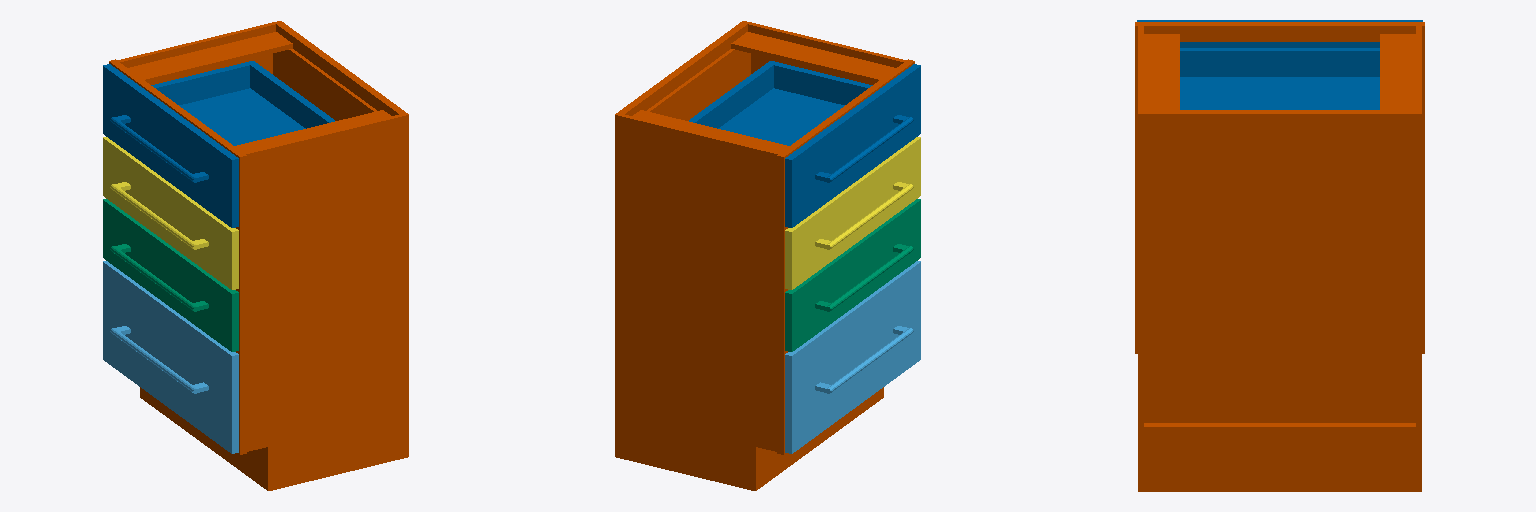
robot.urdf — partnet_bbdaeb32d4229d70c59350d819542ec7:
<?xml version="1.0" ?>
<robot name="partnet_bbdaeb32d4229d70c59350d819542ec7">
	<link name="base"/>
	<link name="link_0">
		<visual name="drawer_front-31">
			<origin xyz="0 0 0"/>
			<geometry>
				<mesh filename="textured_objs/original-43.obj"/>
			</geometry>
		</visual>
		<visual name="drawer_front-31">
			<origin xyz="0 0 0"/>
			<geometry>
				<mesh filename="textured_objs/original-51.obj"/>
			</geometry>
		</visual>
		<visual name="drawer_side-32">
			<origin xyz="0 0 0"/>
			<geometry>
				<mesh filename="textured_objs/original-42.obj"/>
			</geometry>
		</visual>
		<visual name="drawer_side-33">
			<origin xyz="0 0 0"/>
			<geometry>
				<mesh filename="textured_objs/original-49.obj"/>
			</geometry>
		</visual>
		<visual name="drawer_side-33">
			<origin xyz="0 0 0"/>
			<geometry>
				<mesh filename="textured_objs/original-47.obj"/>
			</geometry>
		</visual>
		<visual name="drawer_back-34">
			<origin xyz="0 0 0"/>
			<geometry>
				<mesh filename="textured_objs/original-48.obj"/>
			</geometry>
		</visual>
		<visual name="drawer_bottom-35">
			<origin xyz="0 0 0"/>
			<geometry>
				<mesh filename="textured_objs/original-46.obj"/>
			</geometry>
		</visual>
		<visual name="drawer_bottom-35">
			<origin xyz="0 0 0"/>
			<geometry>
				<mesh filename="textured_objs/original-45.obj"/>
			</geometry>
		</visual>
		<visual name="handle-30">
			<origin xyz="0 0 0"/>
			<geometry>
				<mesh filename="textured_objs/original-53.obj"/>
			</geometry>
		</visual>
		<visual name="handle-30">
			<origin xyz="0 0 0"/>
			<geometry>
				<mesh filename="textured_objs/original-55.obj"/>
			</geometry>
		</visual>
		<visual name="handle-30">
			<origin xyz="0 0 0"/>
			<geometry>
				<mesh filename="textured_objs/original-54.obj"/>
			</geometry>
		</visual>
		<collision>
			<origin xyz="0 0 0"/>
			<geometry>
				<mesh filename="textured_objs/original-43.obj"/>
			</geometry>
		</collision>
		<collision>
			<origin xyz="0 0 0"/>
			<geometry>
				<mesh filename="textured_objs/original-51.obj"/>
			</geometry>
		</collision>
		<collision>
			<origin xyz="0 0 0"/>
			<geometry>
				<mesh filename="textured_objs/original-42.obj"/>
			</geometry>
		</collision>
		<collision>
			<origin xyz="0 0 0"/>
			<geometry>
				<mesh filename="textured_objs/original-49.obj"/>
			</geometry>
		</collision>
		<collision>
			<origin xyz="0 0 0"/>
			<geometry>
				<mesh filename="textured_objs/original-47.obj"/>
			</geometry>
		</collision>
		<collision>
			<origin xyz="0 0 0"/>
			<geometry>
				<mesh filename="textured_objs/original-48.obj"/>
			</geometry>
		</collision>
		<collision>
			<origin xyz="0 0 0"/>
			<geometry>
				<mesh filename="textured_objs/original-46.obj"/>
			</geometry>
		</collision>
		<collision>
			<origin xyz="0 0 0"/>
			<geometry>
				<mesh filename="textured_objs/original-45.obj"/>
			</geometry>
		</collision>
		<collision>
			<origin xyz="0 0 0"/>
			<geometry>
				<mesh filename="textured_objs/original-53.obj"/>
			</geometry>
		</collision>
		<collision>
			<origin xyz="0 0 0"/>
			<geometry>
				<mesh filename="textured_objs/original-55.obj"/>
			</geometry>
		</collision>
		<collision>
			<origin xyz="0 0 0"/>
			<geometry>
				<mesh filename="textured_objs/original-54.obj"/>
			</geometry>
		</collision>
	</link>
	<joint name="joint_0" type="prismatic">
		<origin xyz="0 0 0"/>
		<axis xyz="0 0 1"/>
		<child link="link_0"/>
		<parent link="link_4"/>
		<limit lower="0" upper="0.5680000000000001"/>
	</joint>
	<link name="link_1">
		<visual name="drawer_front-24">
			<origin xyz="0 0 0"/>
			<geometry>
				<mesh filename="textured_objs/original-75.obj"/>
			</geometry>
		</visual>
		<visual name="drawer_front-24">
			<origin xyz="0 0 0"/>
			<geometry>
				<mesh filename="textured_objs/original-83.obj"/>
			</geometry>
		</visual>
		<visual name="drawer_side-25">
			<origin xyz="0 0 0"/>
			<geometry>
				<mesh filename="textured_objs/original-74.obj"/>
			</geometry>
		</visual>
		<visual name="drawer_side-26">
			<origin xyz="0 0 0"/>
			<geometry>
				<mesh filename="textured_objs/original-79.obj"/>
			</geometry>
		</visual>
		<visual name="drawer_side-26">
			<origin xyz="0 0 0"/>
			<geometry>
				<mesh filename="textured_objs/original-81.obj"/>
			</geometry>
		</visual>
		<visual name="drawer_back-27">
			<origin xyz="0 0 0"/>
			<geometry>
				<mesh filename="textured_objs/original-80.obj"/>
			</geometry>
		</visual>
		<visual name="drawer_bottom-28">
			<origin xyz="0 0 0"/>
			<geometry>
				<mesh filename="textured_objs/original-77.obj"/>
			</geometry>
		</visual>
		<visual name="drawer_bottom-28">
			<origin xyz="0 0 0"/>
			<geometry>
				<mesh filename="textured_objs/original-78.obj"/>
			</geometry>
		</visual>
		<visual name="handle-23">
			<origin xyz="0 0 0"/>
			<geometry>
				<mesh filename="textured_objs/original-85.obj"/>
			</geometry>
		</visual>
		<visual name="handle-23">
			<origin xyz="0 0 0"/>
			<geometry>
				<mesh filename="textured_objs/original-86.obj"/>
			</geometry>
		</visual>
		<visual name="handle-23">
			<origin xyz="0 0 0"/>
			<geometry>
				<mesh filename="textured_objs/original-87.obj"/>
			</geometry>
		</visual>
		<collision>
			<origin xyz="0 0 0"/>
			<geometry>
				<mesh filename="textured_objs/original-75.obj"/>
			</geometry>
		</collision>
		<collision>
			<origin xyz="0 0 0"/>
			<geometry>
				<mesh filename="textured_objs/original-83.obj"/>
			</geometry>
		</collision>
		<collision>
			<origin xyz="0 0 0"/>
			<geometry>
				<mesh filename="textured_objs/original-74.obj"/>
			</geometry>
		</collision>
		<collision>
			<origin xyz="0 0 0"/>
			<geometry>
				<mesh filename="textured_objs/original-79.obj"/>
			</geometry>
		</collision>
		<collision>
			<origin xyz="0 0 0"/>
			<geometry>
				<mesh filename="textured_objs/original-81.obj"/>
			</geometry>
		</collision>
		<collision>
			<origin xyz="0 0 0"/>
			<geometry>
				<mesh filename="textured_objs/original-80.obj"/>
			</geometry>
		</collision>
		<collision>
			<origin xyz="0 0 0"/>
			<geometry>
				<mesh filename="textured_objs/original-77.obj"/>
			</geometry>
		</collision>
		<collision>
			<origin xyz="0 0 0"/>
			<geometry>
				<mesh filename="textured_objs/original-78.obj"/>
			</geometry>
		</collision>
		<collision>
			<origin xyz="0 0 0"/>
			<geometry>
				<mesh filename="textured_objs/original-85.obj"/>
			</geometry>
		</collision>
		<collision>
			<origin xyz="0 0 0"/>
			<geometry>
				<mesh filename="textured_objs/original-86.obj"/>
			</geometry>
		</collision>
		<collision>
			<origin xyz="0 0 0"/>
			<geometry>
				<mesh filename="textured_objs/original-87.obj"/>
			</geometry>
		</collision>
	</link>
	<joint name="joint_1" type="prismatic">
		<origin xyz="0 0 0"/>
		<axis xyz="0 0 1"/>
		<child link="link_1"/>
		<parent link="link_4"/>
		<limit lower="0" upper="0.5680000000000001"/>
	</joint>
	<link name="link_2">
		<visual name="drawer_front-17">
			<origin xyz="0 0 0"/>
			<geometry>
				<mesh filename="textured_objs/original-59.obj"/>
			</geometry>
		</visual>
		<visual name="drawer_front-17">
			<origin xyz="0 0 0"/>
			<geometry>
				<mesh filename="textured_objs/original-67.obj"/>
			</geometry>
		</visual>
		<visual name="drawer_side-18">
			<origin xyz="0 0 0"/>
			<geometry>
				<mesh filename="textured_objs/original-58.obj"/>
			</geometry>
		</visual>
		<visual name="drawer_side-19">
			<origin xyz="0 0 0"/>
			<geometry>
				<mesh filename="textured_objs/original-63.obj"/>
			</geometry>
		</visual>
		<visual name="drawer_side-19">
			<origin xyz="0 0 0"/>
			<geometry>
				<mesh filename="textured_objs/original-65.obj"/>
			</geometry>
		</visual>
		<visual name="drawer_back-20">
			<origin xyz="0 0 0"/>
			<geometry>
				<mesh filename="textured_objs/original-64.obj"/>
			</geometry>
		</visual>
		<visual name="drawer_bottom-21">
			<origin xyz="0 0 0"/>
			<geometry>
				<mesh filename="textured_objs/original-62.obj"/>
			</geometry>
		</visual>
		<visual name="drawer_bottom-21">
			<origin xyz="0 0 0"/>
			<geometry>
				<mesh filename="textured_objs/original-61.obj"/>
			</geometry>
		</visual>
		<visual name="handle-16">
			<origin xyz="0 0 0"/>
			<geometry>
				<mesh filename="textured_objs/original-69.obj"/>
			</geometry>
		</visual>
		<visual name="handle-16">
			<origin xyz="0 0 0"/>
			<geometry>
				<mesh filename="textured_objs/original-70.obj"/>
			</geometry>
		</visual>
		<visual name="handle-16">
			<origin xyz="0 0 0"/>
			<geometry>
				<mesh filename="textured_objs/original-71.obj"/>
			</geometry>
		</visual>
		<collision>
			<origin xyz="0 0 0"/>
			<geometry>
				<mesh filename="textured_objs/original-59.obj"/>
			</geometry>
		</collision>
		<collision>
			<origin xyz="0 0 0"/>
			<geometry>
				<mesh filename="textured_objs/original-67.obj"/>
			</geometry>
		</collision>
		<collision>
			<origin xyz="0 0 0"/>
			<geometry>
				<mesh filename="textured_objs/original-58.obj"/>
			</geometry>
		</collision>
		<collision>
			<origin xyz="0 0 0"/>
			<geometry>
				<mesh filename="textured_objs/original-63.obj"/>
			</geometry>
		</collision>
		<collision>
			<origin xyz="0 0 0"/>
			<geometry>
				<mesh filename="textured_objs/original-65.obj"/>
			</geometry>
		</collision>
		<collision>
			<origin xyz="0 0 0"/>
			<geometry>
				<mesh filename="textured_objs/original-64.obj"/>
			</geometry>
		</collision>
		<collision>
			<origin xyz="0 0 0"/>
			<geometry>
				<mesh filename="textured_objs/original-62.obj"/>
			</geometry>
		</collision>
		<collision>
			<origin xyz="0 0 0"/>
			<geometry>
				<mesh filename="textured_objs/original-61.obj"/>
			</geometry>
		</collision>
		<collision>
			<origin xyz="0 0 0"/>
			<geometry>
				<mesh filename="textured_objs/original-69.obj"/>
			</geometry>
		</collision>
		<collision>
			<origin xyz="0 0 0"/>
			<geometry>
				<mesh filename="textured_objs/original-70.obj"/>
			</geometry>
		</collision>
		<collision>
			<origin xyz="0 0 0"/>
			<geometry>
				<mesh filename="textured_objs/original-71.obj"/>
			</geometry>
		</collision>
	</link>
	<joint name="joint_2" type="prismatic">
		<origin xyz="0 0 0"/>
		<axis xyz="0 0 1"/>
		<child link="link_2"/>
		<parent link="link_4"/>
		<limit lower="0" upper="0.5680000000000001"/>
	</joint>
	<link name="link_3">
		<visual name="drawer_front-10">
			<origin xyz="0 0 0"/>
			<geometry>
				<mesh filename="textured_objs/original-27.obj"/>
			</geometry>
		</visual>
		<visual name="drawer_front-10">
			<origin xyz="0 0 0"/>
			<geometry>
				<mesh filename="textured_objs/original-35.obj"/>
			</geometry>
		</visual>
		<visual name="drawer_side-11">
			<origin xyz="0 0 0"/>
			<geometry>
				<mesh filename="textured_objs/original-26.obj"/>
			</geometry>
		</visual>
		<visual name="drawer_side-12">
			<origin xyz="0 0 0"/>
			<geometry>
				<mesh filename="textured_objs/original-31.obj"/>
			</geometry>
		</visual>
		<visual name="drawer_side-12">
			<origin xyz="0 0 0"/>
			<geometry>
				<mesh filename="textured_objs/original-33.obj"/>
			</geometry>
		</visual>
		<visual name="drawer_back-13">
			<origin xyz="0 0 0"/>
			<geometry>
				<mesh filename="textured_objs/original-32.obj"/>
			</geometry>
		</visual>
		<visual name="drawer_bottom-14">
			<origin xyz="0 0 0"/>
			<geometry>
				<mesh filename="textured_objs/original-30.obj"/>
			</geometry>
		</visual>
		<visual name="drawer_bottom-14">
			<origin xyz="0 0 0"/>
			<geometry>
				<mesh filename="textured_objs/original-29.obj"/>
			</geometry>
		</visual>
		<visual name="handle-9">
			<origin xyz="0 0 0"/>
			<geometry>
				<mesh filename="textured_objs/original-37.obj"/>
			</geometry>
		</visual>
		<visual name="handle-9">
			<origin xyz="0 0 0"/>
			<geometry>
				<mesh filename="textured_objs/original-38.obj"/>
			</geometry>
		</visual>
		<visual name="handle-9">
			<origin xyz="0 0 0"/>
			<geometry>
				<mesh filename="textured_objs/original-39.obj"/>
			</geometry>
		</visual>
		<collision>
			<origin xyz="0 0 0"/>
			<geometry>
				<mesh filename="textured_objs/original-27.obj"/>
			</geometry>
		</collision>
		<collision>
			<origin xyz="0 0 0"/>
			<geometry>
				<mesh filename="textured_objs/original-35.obj"/>
			</geometry>
		</collision>
		<collision>
			<origin xyz="0 0 0"/>
			<geometry>
				<mesh filename="textured_objs/original-26.obj"/>
			</geometry>
		</collision>
		<collision>
			<origin xyz="0 0 0"/>
			<geometry>
				<mesh filename="textured_objs/original-31.obj"/>
			</geometry>
		</collision>
		<collision>
			<origin xyz="0 0 0"/>
			<geometry>
				<mesh filename="textured_objs/original-33.obj"/>
			</geometry>
		</collision>
		<collision>
			<origin xyz="0 0 0"/>
			<geometry>
				<mesh filename="textured_objs/original-32.obj"/>
			</geometry>
		</collision>
		<collision>
			<origin xyz="0 0 0"/>
			<geometry>
				<mesh filename="textured_objs/original-30.obj"/>
			</geometry>
		</collision>
		<collision>
			<origin xyz="0 0 0"/>
			<geometry>
				<mesh filename="textured_objs/original-29.obj"/>
			</geometry>
		</collision>
		<collision>
			<origin xyz="0 0 0"/>
			<geometry>
				<mesh filename="textured_objs/original-37.obj"/>
			</geometry>
		</collision>
		<collision>
			<origin xyz="0 0 0"/>
			<geometry>
				<mesh filename="textured_objs/original-38.obj"/>
			</geometry>
		</collision>
		<collision>
			<origin xyz="0 0 0"/>
			<geometry>
				<mesh filename="textured_objs/original-39.obj"/>
			</geometry>
		</collision>
	</link>
	<joint name="joint_3" type="prismatic">
		<origin xyz="0 0 0"/>
		<axis xyz="0 0 1"/>
		<child link="link_3"/>
		<parent link="link_4"/>
		<limit lower="0" upper="0.5680000000000001"/>
	</joint>
	<link name="link_4">
		<visual name="frame_vertical_bar-46">
			<origin xyz="0 0 0"/>
			<geometry>
				<mesh filename="textured_objs/original-3.obj"/>
			</geometry>
		</visual>
		<visual name="frame_vertical_bar-47">
			<origin xyz="0 0 0"/>
			<geometry>
				<mesh filename="textured_objs/original-7.obj"/>
			</geometry>
		</visual>
		<visual name="frame_horizontal_bar-48">
			<origin xyz="0 0 0"/>
			<geometry>
				<mesh filename="textured_objs/original-21.obj"/>
			</geometry>
		</visual>
		<visual name="frame_horizontal_bar-49">
			<origin xyz="0 0 0"/>
			<geometry>
				<mesh filename="textured_objs/original-20.obj"/>
			</geometry>
		</visual>
		<visual name="frame_horizontal_bar-50">
			<origin xyz="0 0 0"/>
			<geometry>
				<mesh filename="textured_objs/original-8.obj"/>
			</geometry>
		</visual>
		<visual name="frame_horizontal_bar-51">
			<origin xyz="0 0 0"/>
			<geometry>
				<mesh filename="textured_objs/original-23.obj"/>
			</geometry>
		</visual>
		<visual name="frame_horizontal_bar-52">
			<origin xyz="0 0 0"/>
			<geometry>
				<mesh filename="textured_objs/original-22.obj"/>
			</geometry>
		</visual>
		<visual name="frame_horizontal_bar-53">
			<origin xyz="0 0 0"/>
			<geometry>
				<mesh filename="textured_objs/original-17.obj"/>
			</geometry>
		</visual>
		<visual name="frame_horizontal_bar-54">
			<origin xyz="0 0 0"/>
			<geometry>
				<mesh filename="textured_objs/original-6.obj"/>
			</geometry>
		</visual>
		<visual name="frame_horizontal_bar-55">
			<origin xyz="0 0 0"/>
			<geometry>
				<mesh filename="textured_objs/original-4.obj"/>
			</geometry>
		</visual>
		<visual name="other_leaf-57">
			<origin xyz="0 0 0"/>
			<geometry>
				<mesh filename="textured_objs/original-88.obj"/>
			</geometry>
		</visual>
		<visual name="vertical_side_panel-58">
			<origin xyz="0 0 0"/>
			<geometry>
				<mesh filename="textured_objs/original-11.obj"/>
			</geometry>
		</visual>
		<visual name="vertical_side_panel-58">
			<origin xyz="0 0 0"/>
			<geometry>
				<mesh filename="textured_objs/original-10.obj"/>
			</geometry>
		</visual>
		<visual name="vertical_side_panel-59">
			<origin xyz="0 0 0"/>
			<geometry>
				<mesh filename="textured_objs/original-15.obj"/>
			</geometry>
		</visual>
		<visual name="vertical_side_panel-59">
			<origin xyz="0 0 0"/>
			<geometry>
				<mesh filename="textured_objs/original-14.obj"/>
			</geometry>
		</visual>
		<visual name="back_panel-60">
			<origin xyz="0 0 0"/>
			<geometry>
				<mesh filename="textured_objs/original-5.obj"/>
			</geometry>
		</visual>
		<visual name="bottom_panel-61">
			<origin xyz="0 0 0"/>
			<geometry>
				<mesh filename="textured_objs/original-2.obj"/>
			</geometry>
		</visual>
		<visual name="base_side_panel-37">
			<origin xyz="0 0 0"/>
			<geometry>
				<mesh filename="textured_objs/original-12.obj"/>
			</geometry>
		</visual>
		<visual name="base_side_panel-38">
			<origin xyz="0 0 0"/>
			<geometry>
				<mesh filename="textured_objs/original-18.obj"/>
			</geometry>
		</visual>
		<visual name="base_side_panel-39">
			<origin xyz="0 0 0"/>
			<geometry>
				<mesh filename="textured_objs/original-16.obj"/>
			</geometry>
		</visual>
		<visual name="base_side_panel-40">
			<origin xyz="0 0 0"/>
			<geometry>
				<mesh filename="textured_objs/original-19.obj"/>
			</geometry>
		</visual>
		<collision>
			<origin xyz="0 0 0"/>
			<geometry>
				<mesh filename="textured_objs/original-3.obj"/>
			</geometry>
		</collision>
		<collision>
			<origin xyz="0 0 0"/>
			<geometry>
				<mesh filename="textured_objs/original-7.obj"/>
			</geometry>
		</collision>
		<collision>
			<origin xyz="0 0 0"/>
			<geometry>
				<mesh filename="textured_objs/original-21.obj"/>
			</geometry>
		</collision>
		<collision>
			<origin xyz="0 0 0"/>
			<geometry>
				<mesh filename="textured_objs/original-20.obj"/>
			</geometry>
		</collision>
		<collision>
			<origin xyz="0 0 0"/>
			<geometry>
				<mesh filename="textured_objs/original-8.obj"/>
			</geometry>
		</collision>
		<collision>
			<origin xyz="0 0 0"/>
			<geometry>
				<mesh filename="textured_objs/original-23.obj"/>
			</geometry>
		</collision>
		<collision>
			<origin xyz="0 0 0"/>
			<geometry>
				<mesh filename="textured_objs/original-22.obj"/>
			</geometry>
		</collision>
		<collision>
			<origin xyz="0 0 0"/>
			<geometry>
				<mesh filename="textured_objs/original-17.obj"/>
			</geometry>
		</collision>
		<collision>
			<origin xyz="0 0 0"/>
			<geometry>
				<mesh filename="textured_objs/original-6.obj"/>
			</geometry>
		</collision>
		<collision>
			<origin xyz="0 0 0"/>
			<geometry>
				<mesh filename="textured_objs/original-4.obj"/>
			</geometry>
		</collision>
		<collision>
			<origin xyz="0 0 0"/>
			<geometry>
				<mesh filename="textured_objs/original-88.obj"/>
			</geometry>
		</collision>
		<collision>
			<origin xyz="0 0 0"/>
			<geometry>
				<mesh filename="textured_objs/original-11.obj"/>
			</geometry>
		</collision>
		<collision>
			<origin xyz="0 0 0"/>
			<geometry>
				<mesh filename="textured_objs/original-10.obj"/>
			</geometry>
		</collision>
		<collision>
			<origin xyz="0 0 0"/>
			<geometry>
				<mesh filename="textured_objs/original-15.obj"/>
			</geometry>
		</collision>
		<collision>
			<origin xyz="0 0 0"/>
			<geometry>
				<mesh filename="textured_objs/original-14.obj"/>
			</geometry>
		</collision>
		<collision>
			<origin xyz="0 0 0"/>
			<geometry>
				<mesh filename="textured_objs/original-5.obj"/>
			</geometry>
		</collision>
		<collision>
			<origin xyz="0 0 0"/>
			<geometry>
				<mesh filename="textured_objs/original-2.obj"/>
			</geometry>
		</collision>
		<collision>
			<origin xyz="0 0 0"/>
			<geometry>
				<mesh filename="textured_objs/original-12.obj"/>
			</geometry>
		</collision>
		<collision>
			<origin xyz="0 0 0"/>
			<geometry>
				<mesh filename="textured_objs/original-18.obj"/>
			</geometry>
		</collision>
		<collision>
			<origin xyz="0 0 0"/>
			<geometry>
				<mesh filename="textured_objs/original-16.obj"/>
			</geometry>
		</collision>
		<collision>
			<origin xyz="0 0 0"/>
			<geometry>
				<mesh filename="textured_objs/original-19.obj"/>
			</geometry>
		</collision>
	</link>
	<joint name="joint_4" type="fixed">
		<origin rpy="1.570796326794897 0 -1.570796326794897" xyz="0 0 0"/>
		<child link="link_4"/>
		<parent link="base"/>
	</joint>
</robot>

--- Render facts (derived) ---
The picture shows the robot from 3 angles, left to right: view 1: azimuth 30°, elevation 25°; view 2: azimuth 150°, elevation 25°; view 3: azimuth 270°, elevation 25°; orthographic projection.
Model partnet_bbdaeb32d4229d70c59350d819542ec7 with 6 links and 5 joints (4 prismatic, 1 fixed), rooted at base, posed all joints at 0.
Visible links, largest first — view 1: link_4, link_3, link_0, link_1, link_2; view 2: link_4, link_3, link_0, link_1, link_2; view 3: link_4, link_3.
Link boxes in pixels (<box>): link_4: <box>109,21,408,490</box>; link_3: <box>103,61,334,227</box>; link_0: <box>103,261,238,453</box>; link_1: <box>103,199,238,351</box>; link_2: <box>103,137,238,289</box>; link_4: <box>615,21,914,490</box>; link_3: <box>689,61,920,227</box>; link_0: <box>785,261,920,453</box>; link_1: <box>785,199,920,351</box>; link_2: <box>785,137,920,289</box>; link_4: <box>1135,22,1424,491</box>; link_3: <box>1137,20,1422,109</box>.
Size in the robot's own frame: 0.9023 by 1.06 by 1.53 metres.
Meshes: 65 distinct files referenced, 65 mesh visuals loaded (65 OBJ).